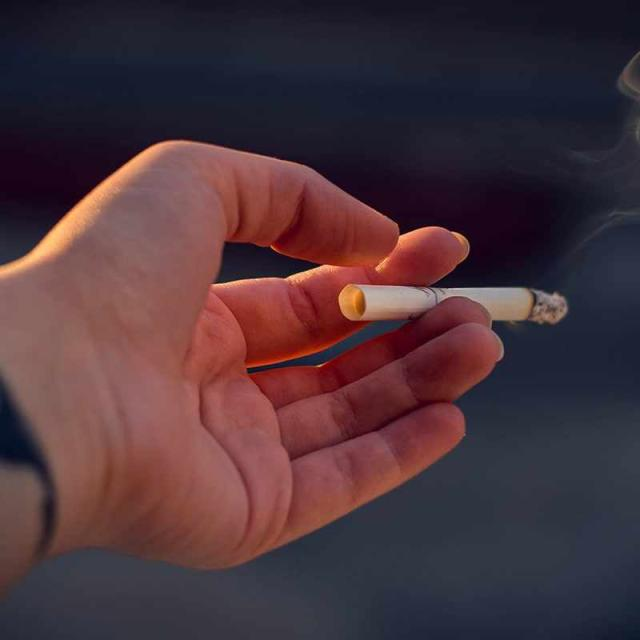Cigarette: (328, 269, 577, 327)
